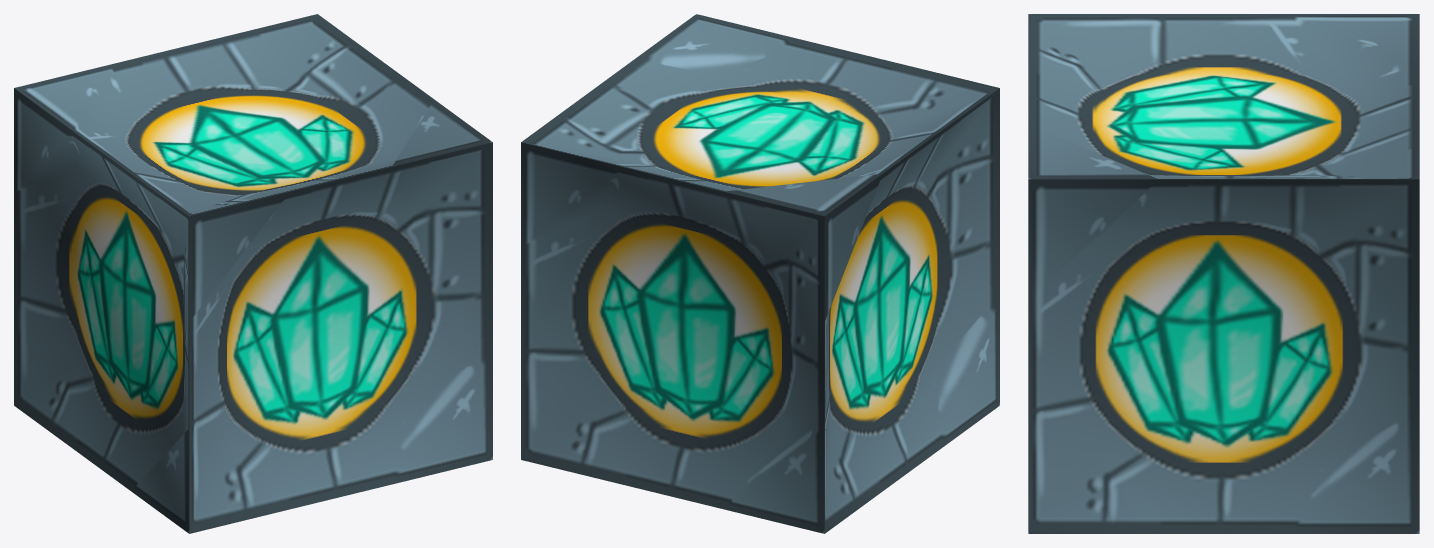
File: crateMAPPED.FBX
3 views of the same model, side by side, from view 1: azimuth 30°, elevation 25°; view 2: azimuth 150°, elevation 25°; view 3: azimuth 270°, elevation 25° (orthographic). The views are drawn at different scales.
Parts seen in each view (by area): view 1: Box001; view 2: Box001; view 3: Box001.
Part boxes in pixels (x1,y1,x2,y2): Box001: (14,14,492,533); Box001: (521,14,999,533); Box001: (1028,14,1419,533).
Bounding box in the file's own units: 50 × 50 × 50.
